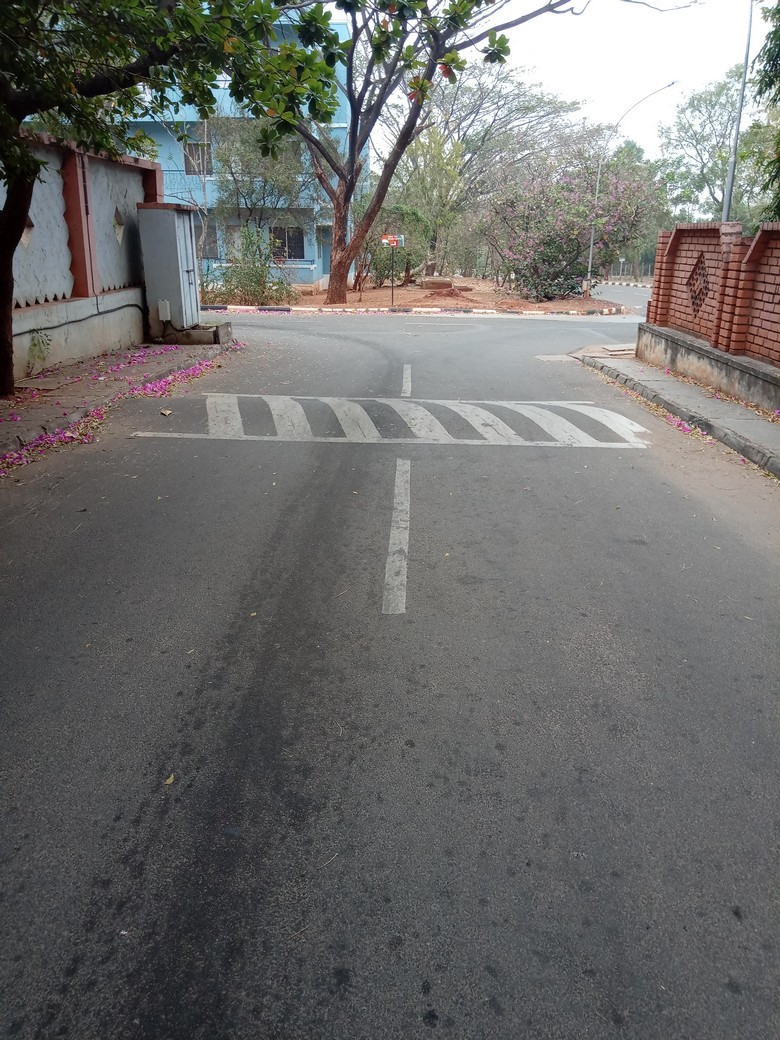bump: (72, 391, 664, 446)
